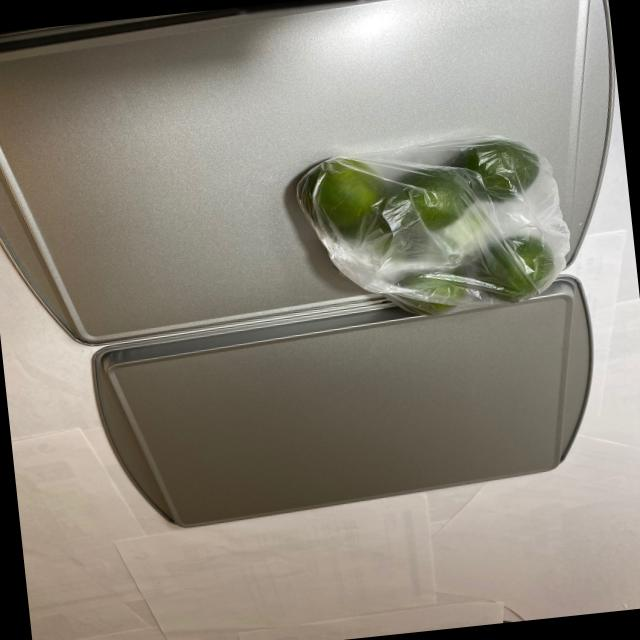lemon: (296, 136, 562, 326)
